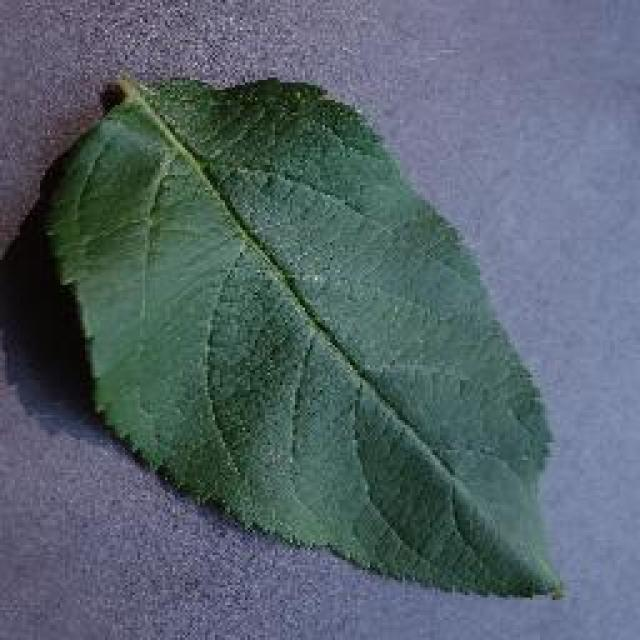apple healthy: (32, 70, 568, 600)
